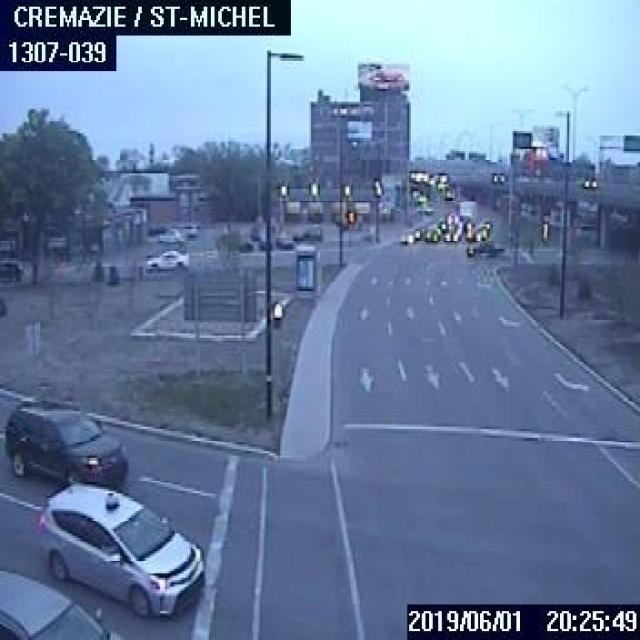vehicle: (37, 479, 203, 616), (3, 398, 126, 489), (0, 566, 122, 638), (142, 246, 189, 272), (464, 236, 503, 256), (0, 256, 22, 276), (155, 226, 182, 242), (177, 221, 199, 236), (274, 232, 293, 247), (398, 226, 414, 242), (442, 227, 458, 241), (464, 227, 481, 240), (580, 175, 596, 188), (423, 226, 437, 240), (489, 170, 504, 182)
